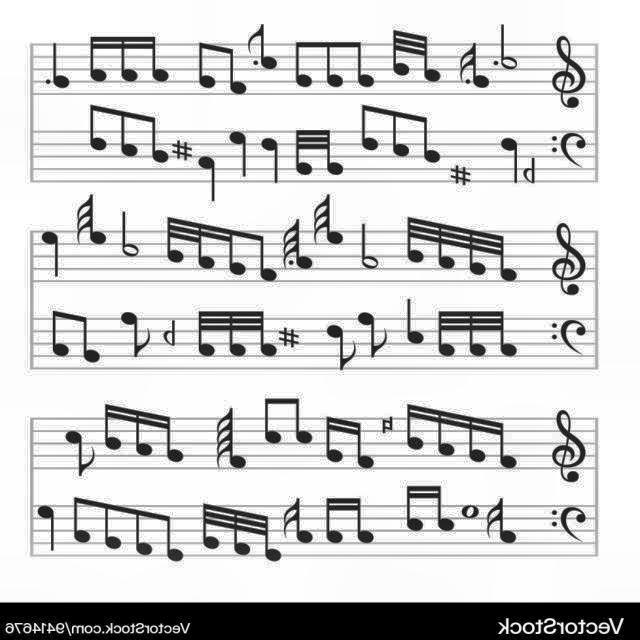Bass-clef: (546, 503, 590, 545), (550, 128, 590, 170), (550, 316, 590, 356)
Bemol: (520, 153, 540, 187), (162, 317, 180, 347)
Diez: (446, 162, 474, 190), (278, 322, 302, 351), (171, 139, 193, 161)
Eighth-note: (354, 308, 394, 359), (62, 428, 100, 478), (214, 42, 248, 96), (70, 311, 104, 365), (280, 396, 316, 446), (411, 113, 445, 165), (140, 111, 172, 165), (323, 320, 357, 370), (110, 104, 140, 160), (120, 308, 152, 359), (83, 98, 113, 152), (344, 39, 376, 89), (247, 24, 280, 72), (315, 40, 347, 88), (158, 512, 185, 564), (384, 108, 412, 158), (250, 232, 278, 282), (195, 40, 221, 91), (98, 500, 124, 550), (358, 102, 382, 154), (261, 394, 285, 446), (128, 506, 152, 558), (293, 37, 315, 91), (71, 494, 93, 546), (48, 310, 68, 360)
Half-note: (116, 207, 140, 260), (498, 22, 522, 70), (360, 222, 382, 270)
Quarter-note: (33, 500, 57, 552), (48, 39, 72, 90), (38, 228, 62, 278), (402, 298, 426, 347), (196, 150, 218, 202), (500, 137, 520, 187), (229, 128, 247, 180), (262, 137, 280, 186)
Sixteenth-note: (456, 40, 492, 91), (136, 34, 174, 82), (340, 495, 376, 545), (281, 495, 315, 547), (108, 32, 140, 84), (425, 482, 457, 534), (86, 30, 115, 86), (343, 419, 375, 469), (486, 499, 520, 545), (425, 404, 455, 456), (155, 412, 185, 463), (125, 407, 155, 458), (100, 398, 128, 452), (219, 225, 249, 275), (490, 421, 518, 472), (459, 412, 487, 463), (323, 497, 349, 547), (402, 479, 424, 536), (322, 415, 346, 463), (404, 404, 428, 452)
Treble-clef: (548, 32, 592, 112), (550, 219, 590, 297), (551, 408, 587, 488)
